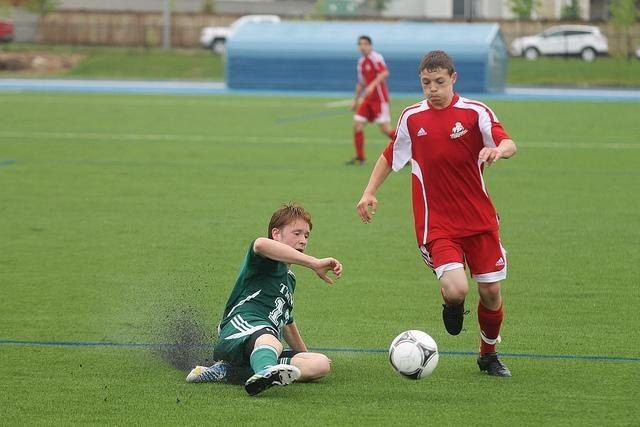car: (508, 25, 608, 63)
truck: (200, 14, 280, 62)
